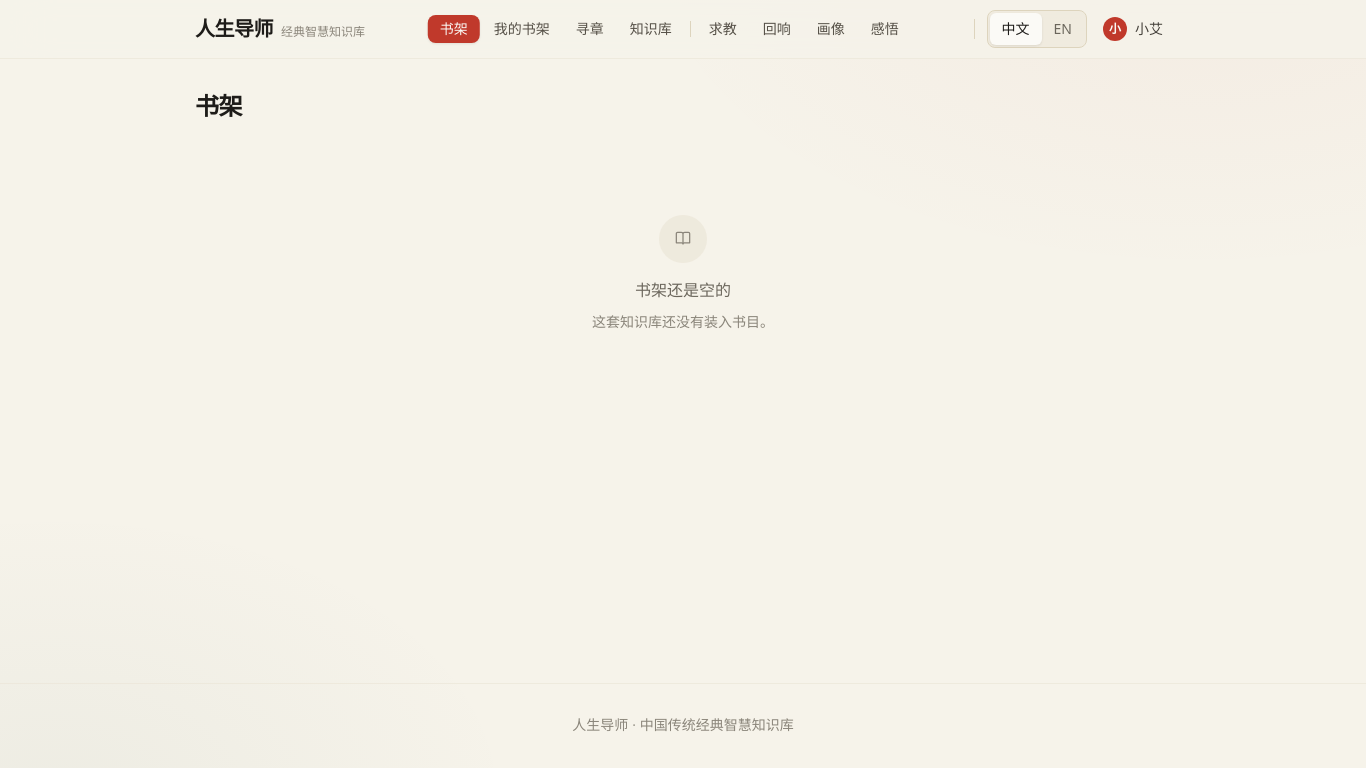
Test: 导航 › 寻章、求教、回响与感悟入口渲染对应页面
The image size is (1366, 768).
# 先等顶栏出现再点：`/` 现在也要登录，首帧是"登录态还没回来"的兜底。
Click the link "寻章" at (590, 28), box left=576, top=19, right=604, bottom=38
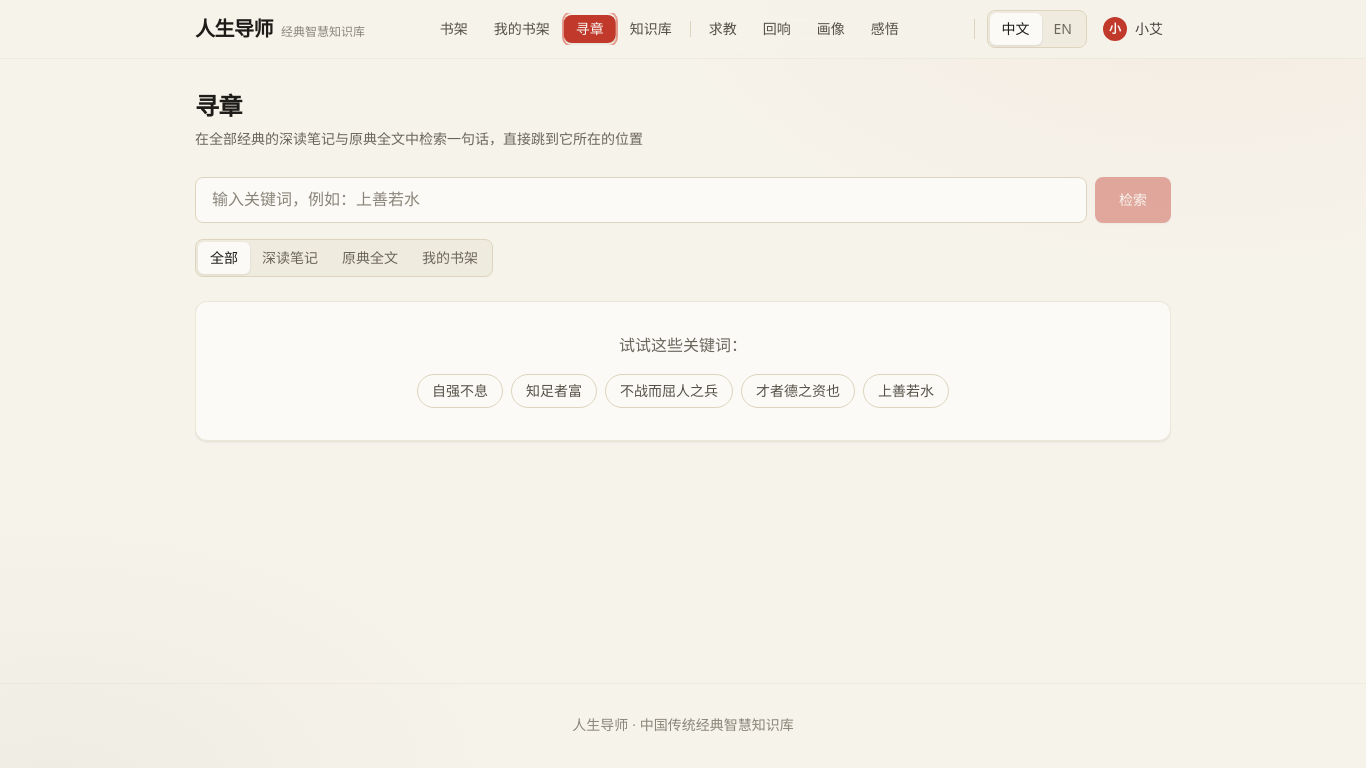
Now the field with placeholder "输入关键词，例如：上善若水" is shown, box left=195, top=177, right=1087, bottom=223
Click the link "求教" at (723, 28), box left=709, top=19, right=737, bottom=38
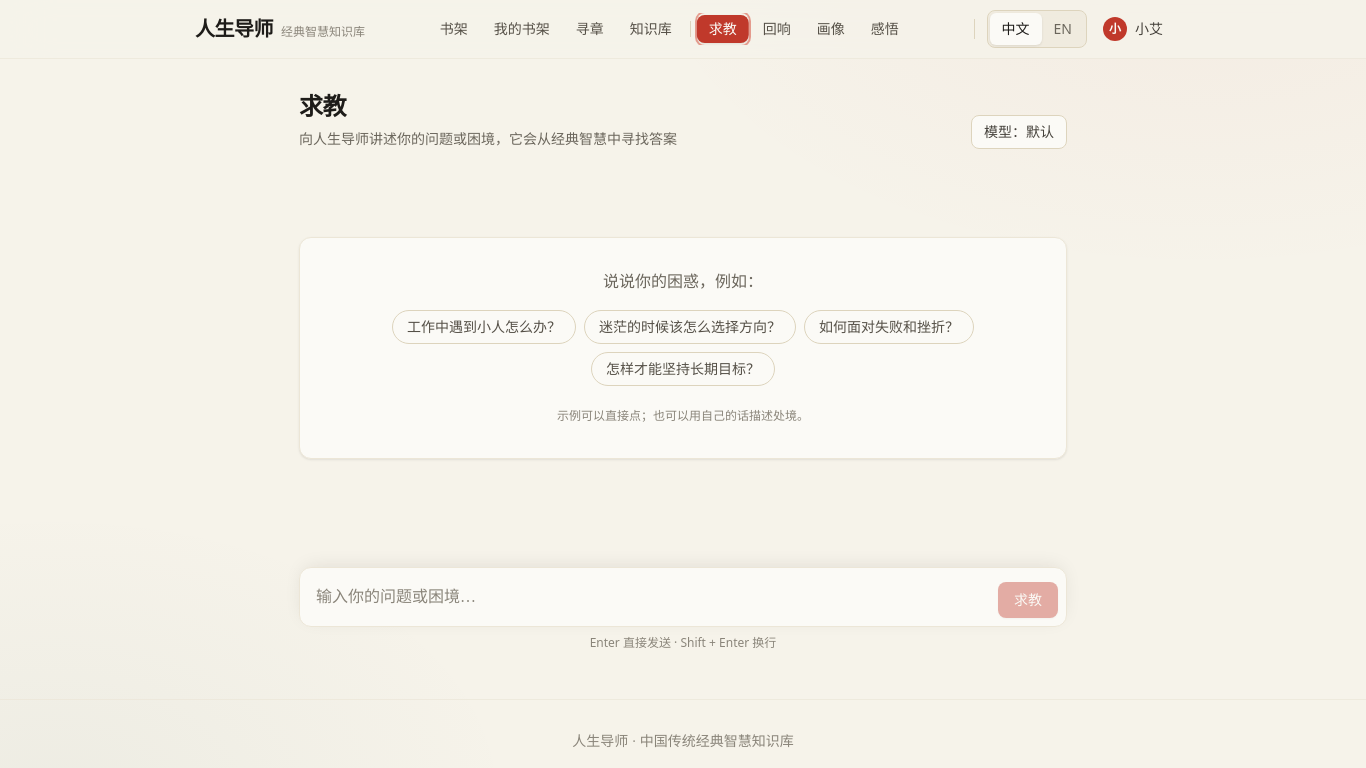
Now the text box with placeholder "输入你的问题或困境…" is shown, box left=316, top=576, right=990, bottom=618
Click the link "回响" at (777, 28), box left=763, top=19, right=791, bottom=38
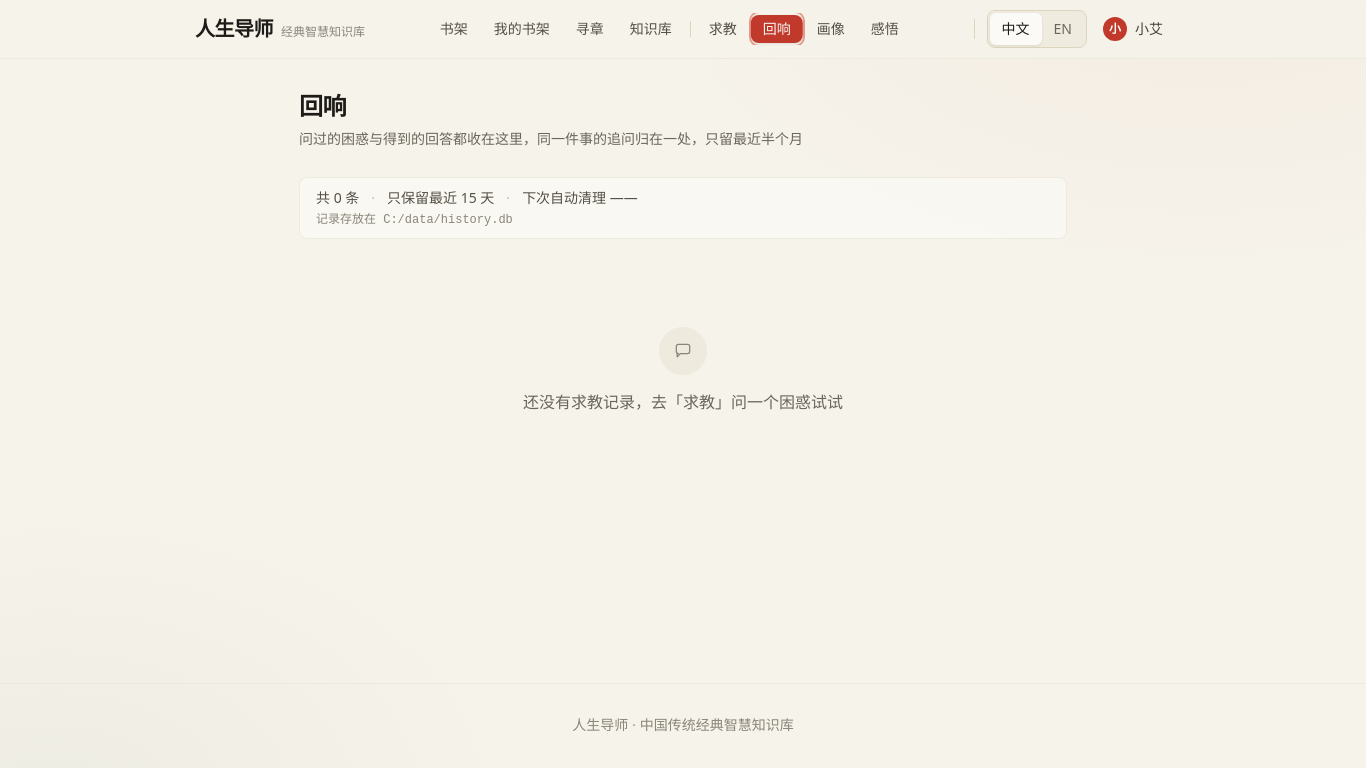
Now the text "还没有求教记录，去「求教」问一个困惑试试" is shown, box left=523, top=394, right=843, bottom=411
Click the link "感悟" at (885, 28), box left=871, top=19, right=899, bottom=38
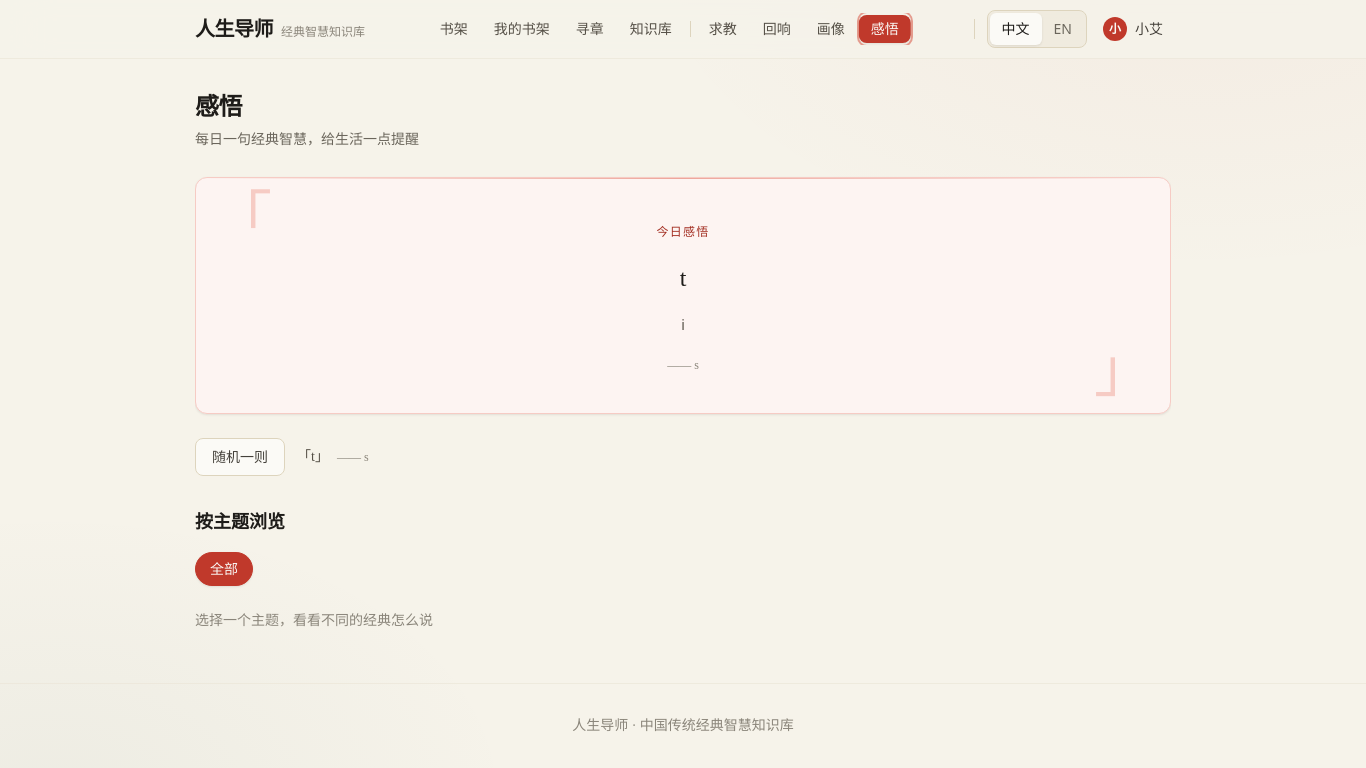
Now the heading "按主题浏览" is shown, box left=195, top=512, right=285, bottom=532
